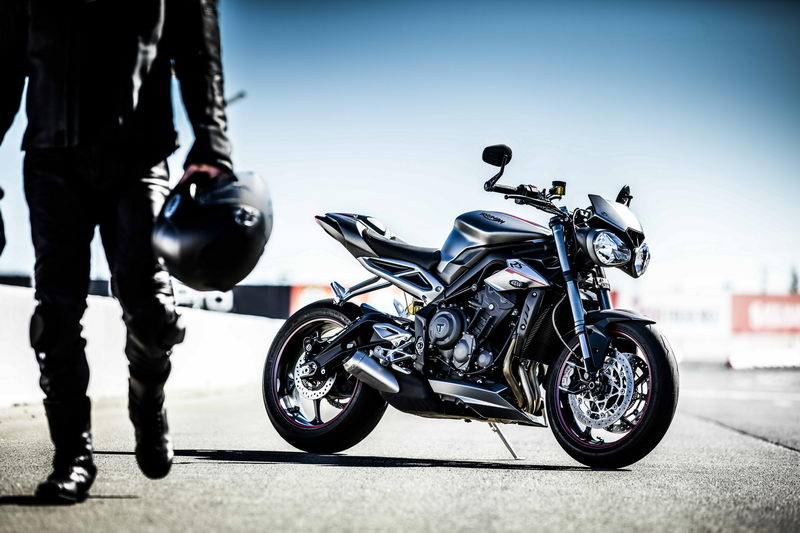motorcycle: (262, 145, 679, 467)
